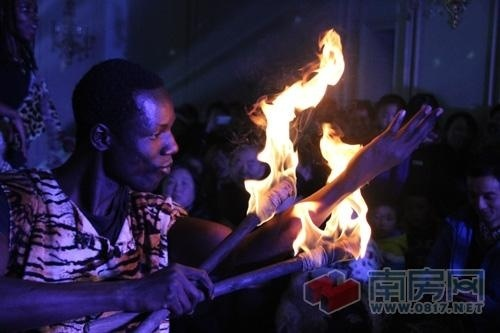fire: (243, 22, 375, 264)
